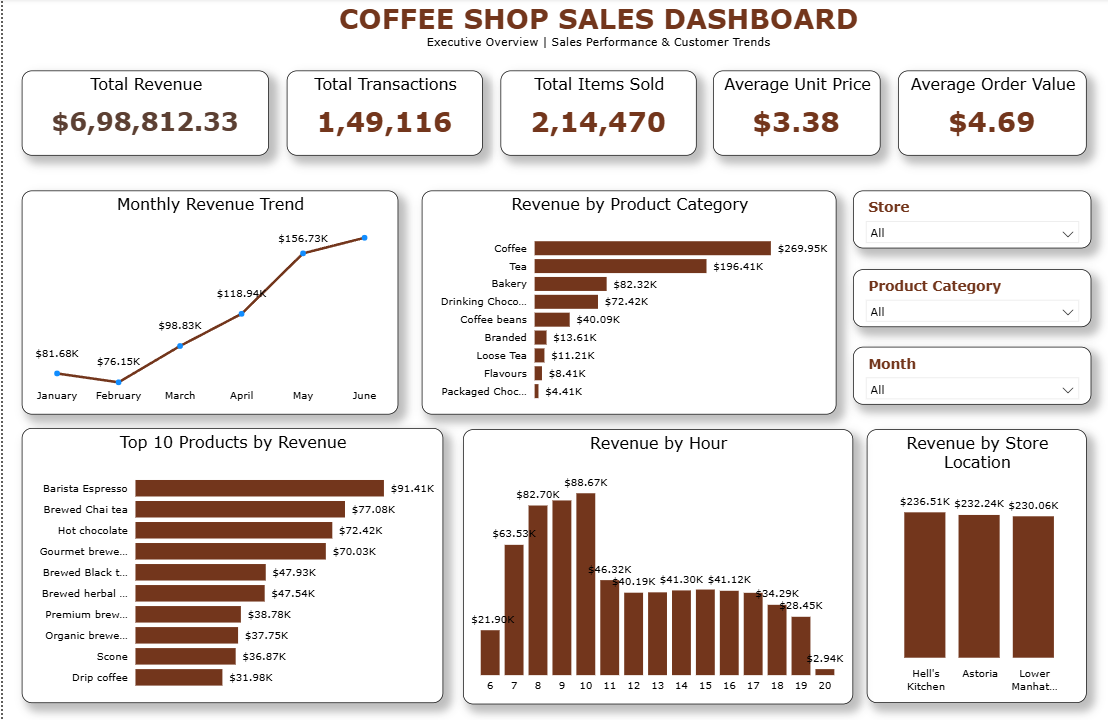

The dashboard page shown, as its layout file describes it:
{"tool":"powerbi","page":{"name":"Executive KPI","canvas":[1300,850],"ordinal":0},"visuals":[{"type":"cardVisual","title":"Total Revenue","fields":{"Data":["Measures (3).Total Revenue"]},"box":[22,85.2,290.8,99.9],"z":0},{"type":"cardVisual","title":"Total Transactions","fields":{"Data":["Measures (3).Total Transactions"]},"box":[333,85.2,230.6,99.9],"z":1000},{"type":"cardVisual","title":"Total Items Sold","fields":{"Data":["Measures (3).Total Items Sold"]},"box":[583.8,85.2,230.6,99.9],"z":2000},{"type":"cardVisual","title":"Average Unit Price","fields":{"Data":["Measures (3).Average Unit Price"]},"box":[834.5,85.2,196.8,99.9],"z":3000},{"type":"cardVisual","title":"Average Order Value","fields":{"Data":["Measures (3).Average Order Value"]},"box":[1051.5,85.2,221.8,99.9],"z":4000},{"type":"lineChart","title":"Monthly Revenue Trend","fields":{"Category":["DateTable.Month"],"Y":["Measures (3).Total Revenue"]},"box":[22,226.2,442,262.9],"z":5000},{"type":"barChart","title":"Revenue by Product Category","fields":{"Y":["Measures (3).Total Revenue"],"Category":["Coffee_Shop_Sales.product_category"]},"box":[492,226.2,487.6,262.9],"z":6000},{"type":"clusteredColumnChart","title":"Revenue by Store Location","fields":{"Category":["Coffee_Shop_Sales.store_location"],"Y":["Measures (3).Total Revenue"]},"box":[1014.8,506.7,258.5,321.6],"z":7000},{"type":"clusteredBarChart","title":"Top 10 Products by Revenue","fields":{"Category":["Coffee_Shop_Sales.product_type"],"Y":["Measures (3).Total Revenue"]},"box":[22,505.2,494.9,323.1],"z":8000},{"type":"clusteredColumnChart","title":"Revenue by Hour","fields":{"Category":["Coffee_Shop_Sales.Transaction Hour"],"Y":["Measures (3).Total Revenue"]},"box":[540.4,506.7,458.2,323.1],"z":9000},{"type":"slicer","title":"Store","fields":{"Values":["Coffee_Shop_Sales.store_location"]},"box":[998.6,226.2,280,68],"z":10000},{"type":"slicer","title":"Product Category","fields":{"Values":["Coffee_Shop_Sales.product_category"]},"box":[997.9,318.7,280,68],"z":11000},{"type":"slicer","title":"Hour of the Day","fields":{"Values":["DateTable.Month"]},"box":[998.6,409.7,280,68],"z":12000},{"type":"textbox","box":[0,0,1399.5,66.9],"z":13000}]}

Visuals, with their boxes in screenshot pixels (x1, y1, x2, y2), scaled from the page's 1300x850 canvas onto the 1108x720 screenshot:
"Total Revenue" cardVisual: 19:72:267:157
"Total Transactions" cardVisual: 284:72:480:157
"Total Items Sold" cardVisual: 498:72:694:157
"Average Unit Price" cardVisual: 711:72:879:157
"Average Order Value" cardVisual: 896:72:1085:157
"Monthly Revenue Trend" lineChart: 19:192:395:414
"Revenue by Product Category" barChart: 419:192:835:414
"Revenue by Store Location" clusteredColumnChart: 865:429:1085:702
"Top 10 Products by Revenue" clusteredBarChart: 19:428:441:702
"Revenue by Hour" clusteredColumnChart: 461:429:851:703
"Store" slicer: 851:192:1090:249
"Product Category" slicer: 851:270:1089:328
"Hour of the Day" slicer: 851:347:1090:405
textbox: 0:0:1107:57
